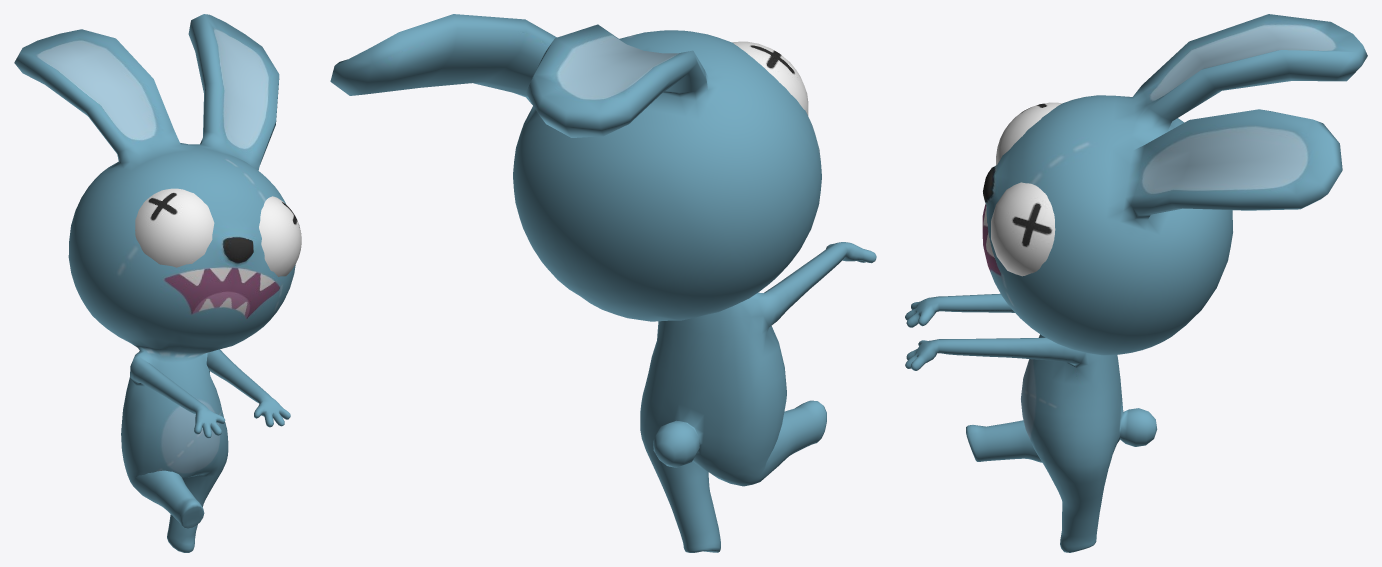
File: Bunny_03_zombie.glb
3 views of the same model, side by side, from view 1: azimuth 30°, elevation 25°; view 2: azimuth 150°, elevation 25°; view 3: azimuth 270°, elevation 25° (orthographic). The views are drawn at different scales.
Visible parts, largest first — view 1: Zombie; view 2: Zombie; view 3: Zombie.
Boxes of the visible parts, box(x1,y1,x2,y2) form: Zombie: box(14, 14, 301, 552); Zombie: box(330, 14, 876, 552); Zombie: box(905, 14, 1367, 552).
Bounding box in the file's own units: 1.48 × 2.38 × 1.95.
Materials: 1 (1 with a texture image).
